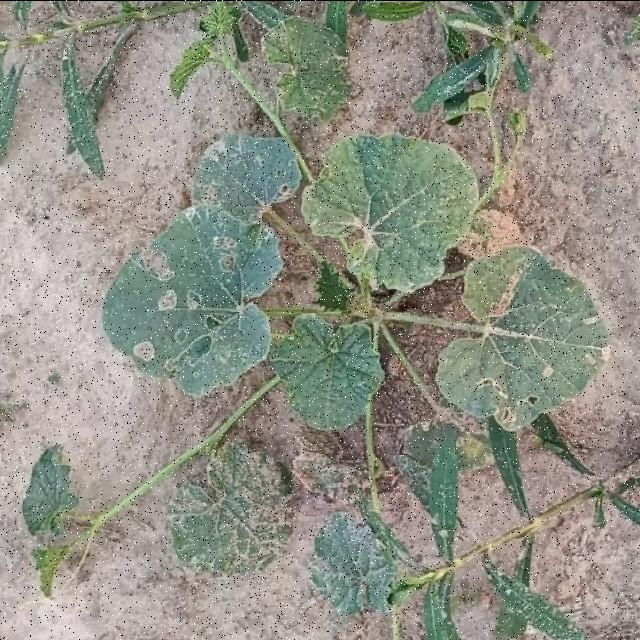plant: (22, 0, 640, 640)
